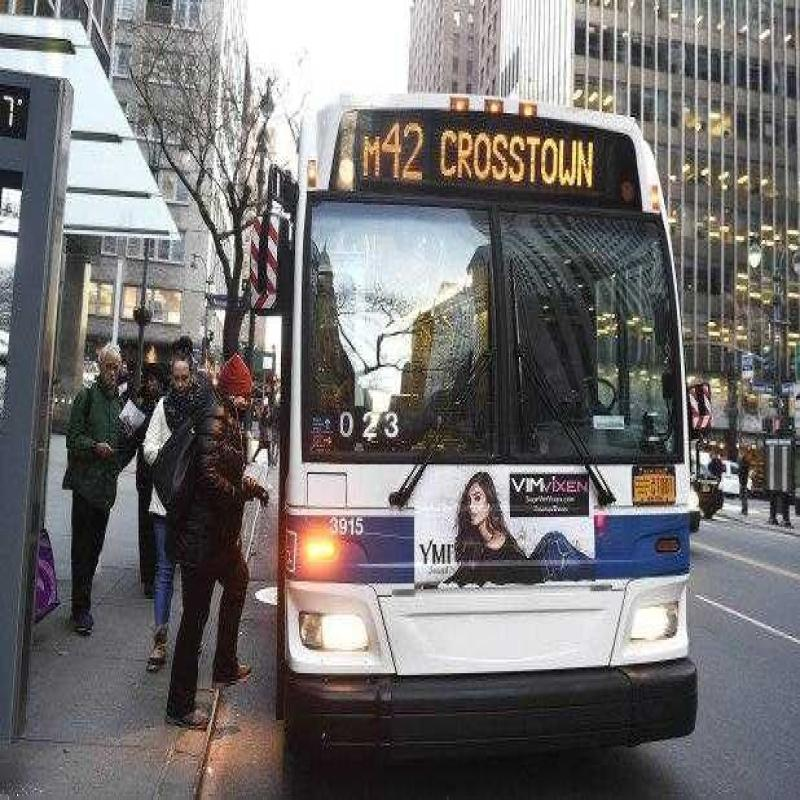bus: (282, 80, 708, 725)
